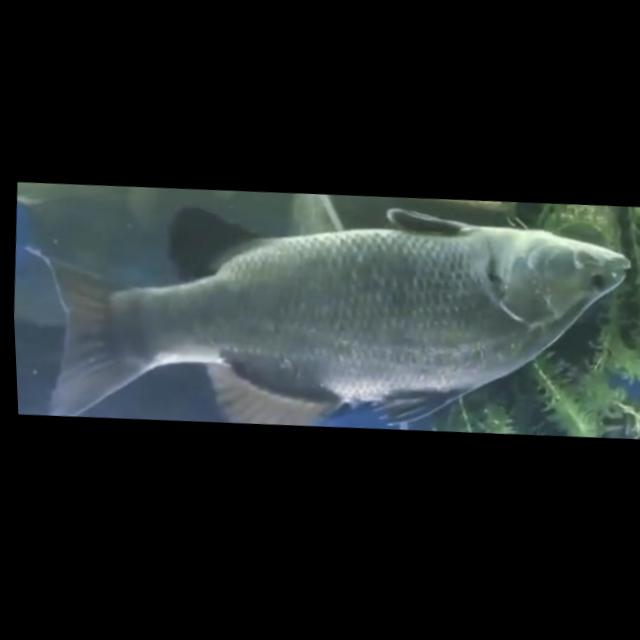Seabass: (9, 176, 640, 455)
